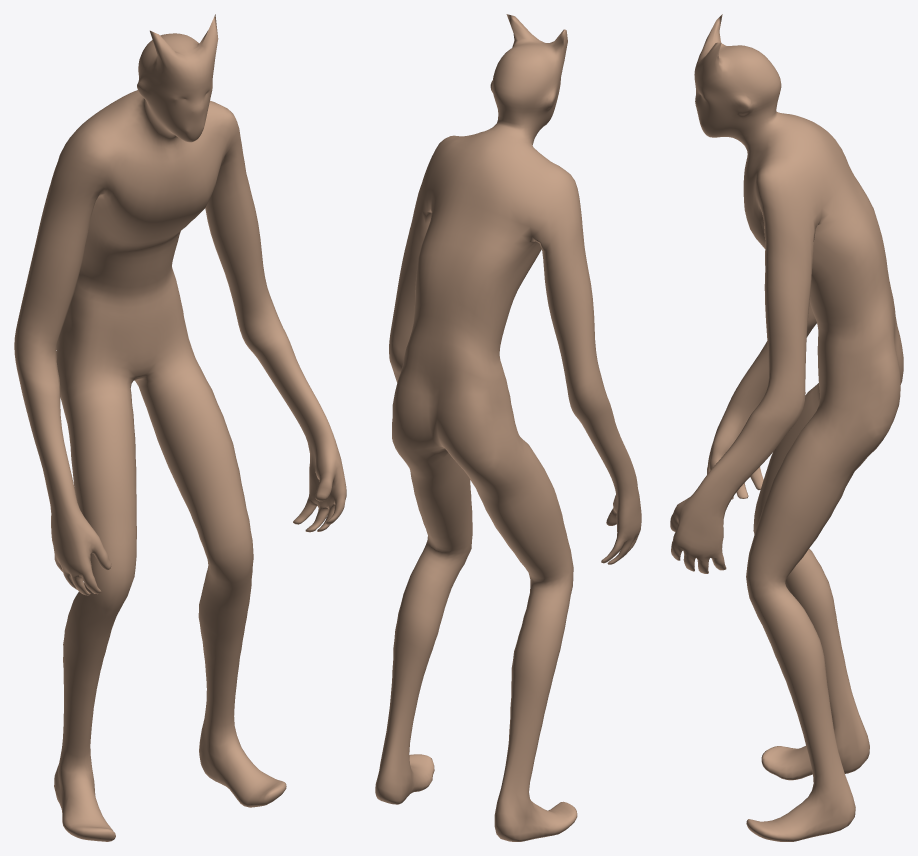
Rendered from Monster.fbx.
The picture shows the model from 3 angles, left to right: view 1: azimuth 30°, elevation 25°; view 2: azimuth 150°, elevation 25°; view 3: azimuth 270°, elevation 25°; orthographic projection. The views are drawn at different scales.
Visible parts, largest first — view 1: humanBody; view 2: humanBody; view 3: humanBody.
Part boxes in pixels (x1,y1,x2,y2): humanBody: [14, 14, 346, 841]; humanBody: [375, 14, 641, 841]; humanBody: [670, 14, 903, 841].
Size of the model in its own units: 64.76 by 198 by 54.37.
